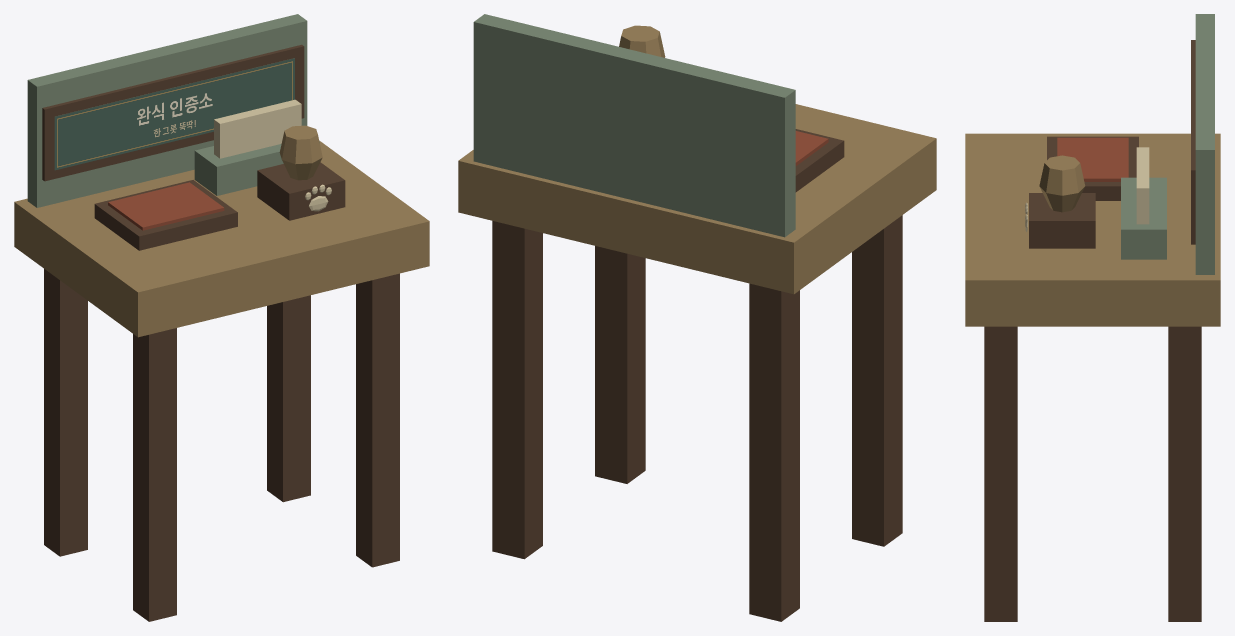
The model's file is M03_Clean_Plate_Stamp.fbx.
3 views of the same model, side by side, from view 1: azimuth 30°, elevation 25°; view 2: azimuth 150°, elevation 25°; view 3: azimuth 270°, elevation 25° (orthographic). The views are drawn at different scales.
Parts seen in each view (by area): view 1: Structure.007, Paw_Stamp; view 2: Structure.007, Paw_Stamp; view 3: Structure.007, Paw_Stamp.
Boxes of the visible parts, left/top/right/bottom form: Structure.007: left=14, top=14, right=429, bottom=621; Paw_Stamp: left=257, top=125, right=345, bottom=220; Structure.007: left=458, top=14, right=936, bottom=621; Paw_Stamp: left=619, top=25, right=665, bottom=57; Structure.007: left=965, top=14, right=1220, bottom=621; Paw_Stamp: left=1025, top=155, right=1095, bottom=248.
Size of the model in its own units: 68 by 103 by 50.
Materials: 1 (1 with a texture image).
